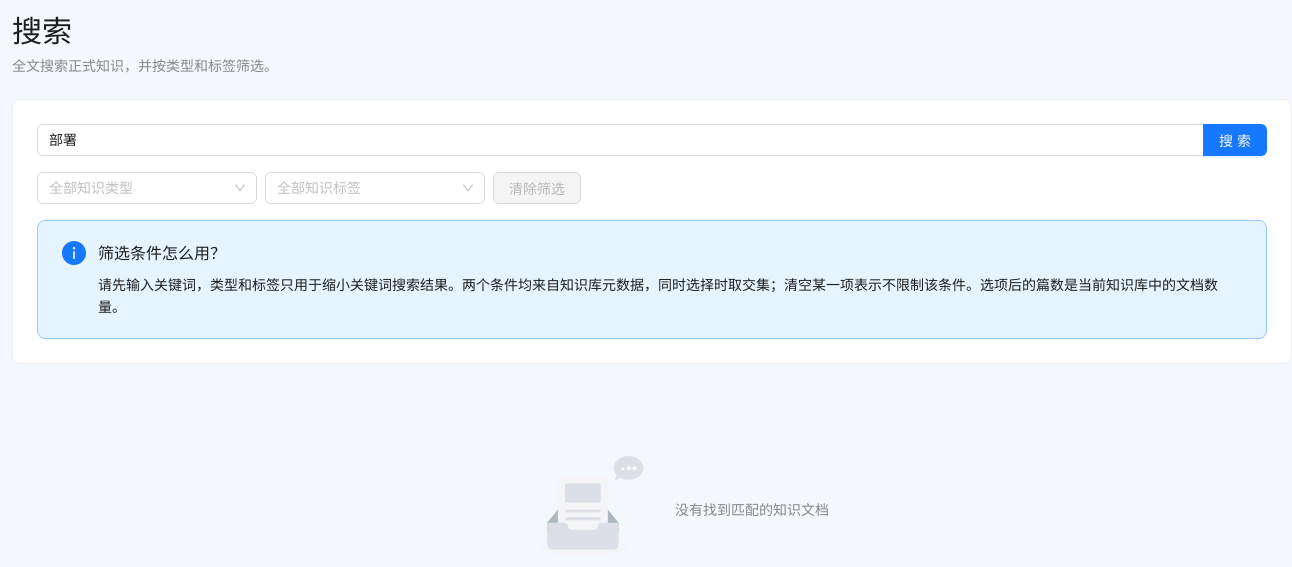
Test: SearchPage › explains filter semantics and builds options from overview metadata
Expected: the text "两个条件均来自知识库元数据，同时选择时取交集" is shown, [98,276,1218,315]
Expected: the button "清除筛选" is disabled, [493,172,581,204]
Click the dropdown named "按知识类型筛选": (138, 188) [49,173,227,203]
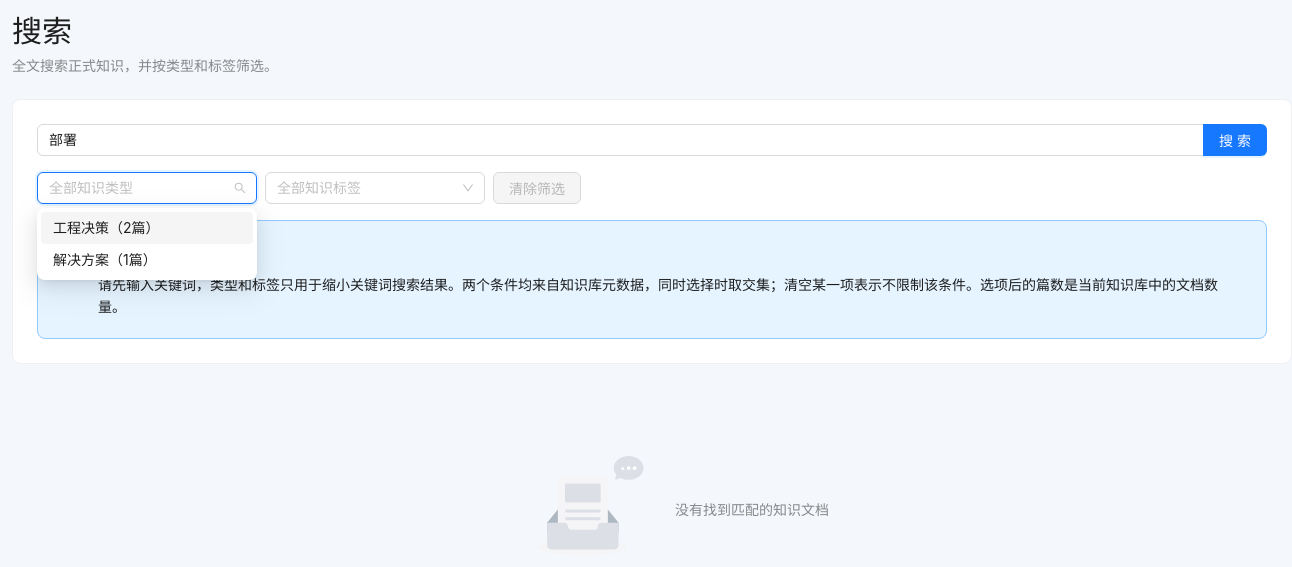
Now the text "工程决策（2篇）" is shown, box [53,219,160,236]
Now the text "解决方案（1篇）" is shown, box [53,251,157,268]
Click the dropdown named "按知识标签筛选": (366, 188) [277,173,455,203]
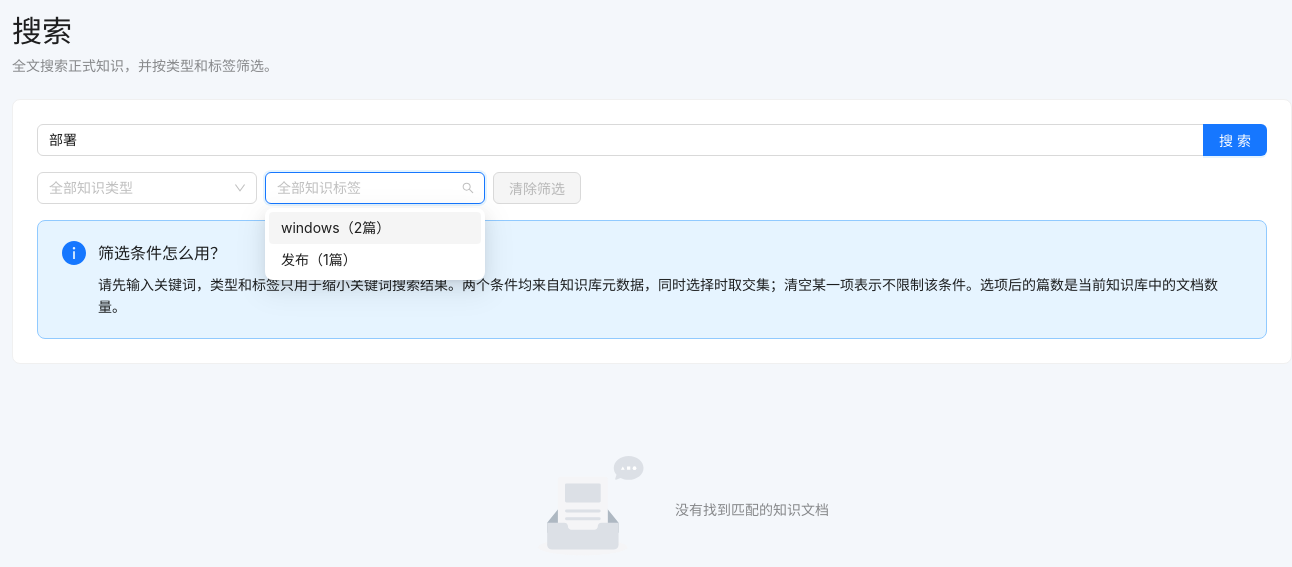
Now the text "windows（2篇）" is shown, box [281,219,390,236]
Now the text "发布（1篇）" is shown, box [281,251,357,268]
